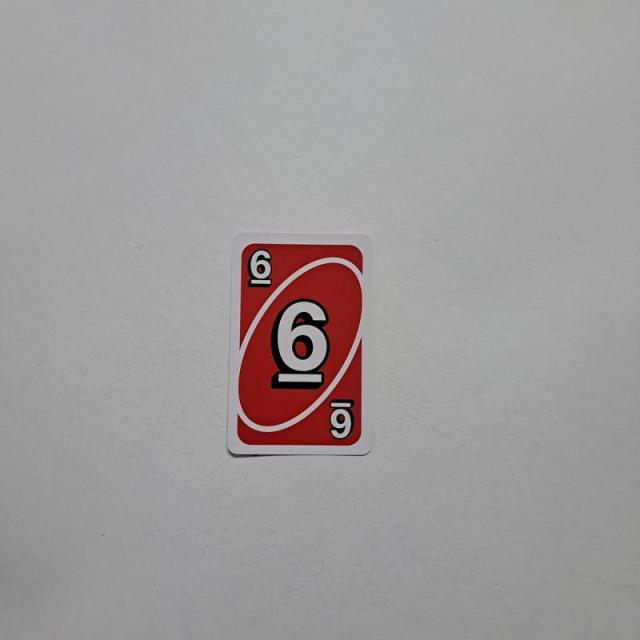Number_6: (243, 242, 279, 298)
Red_Card: (234, 238, 366, 454)
